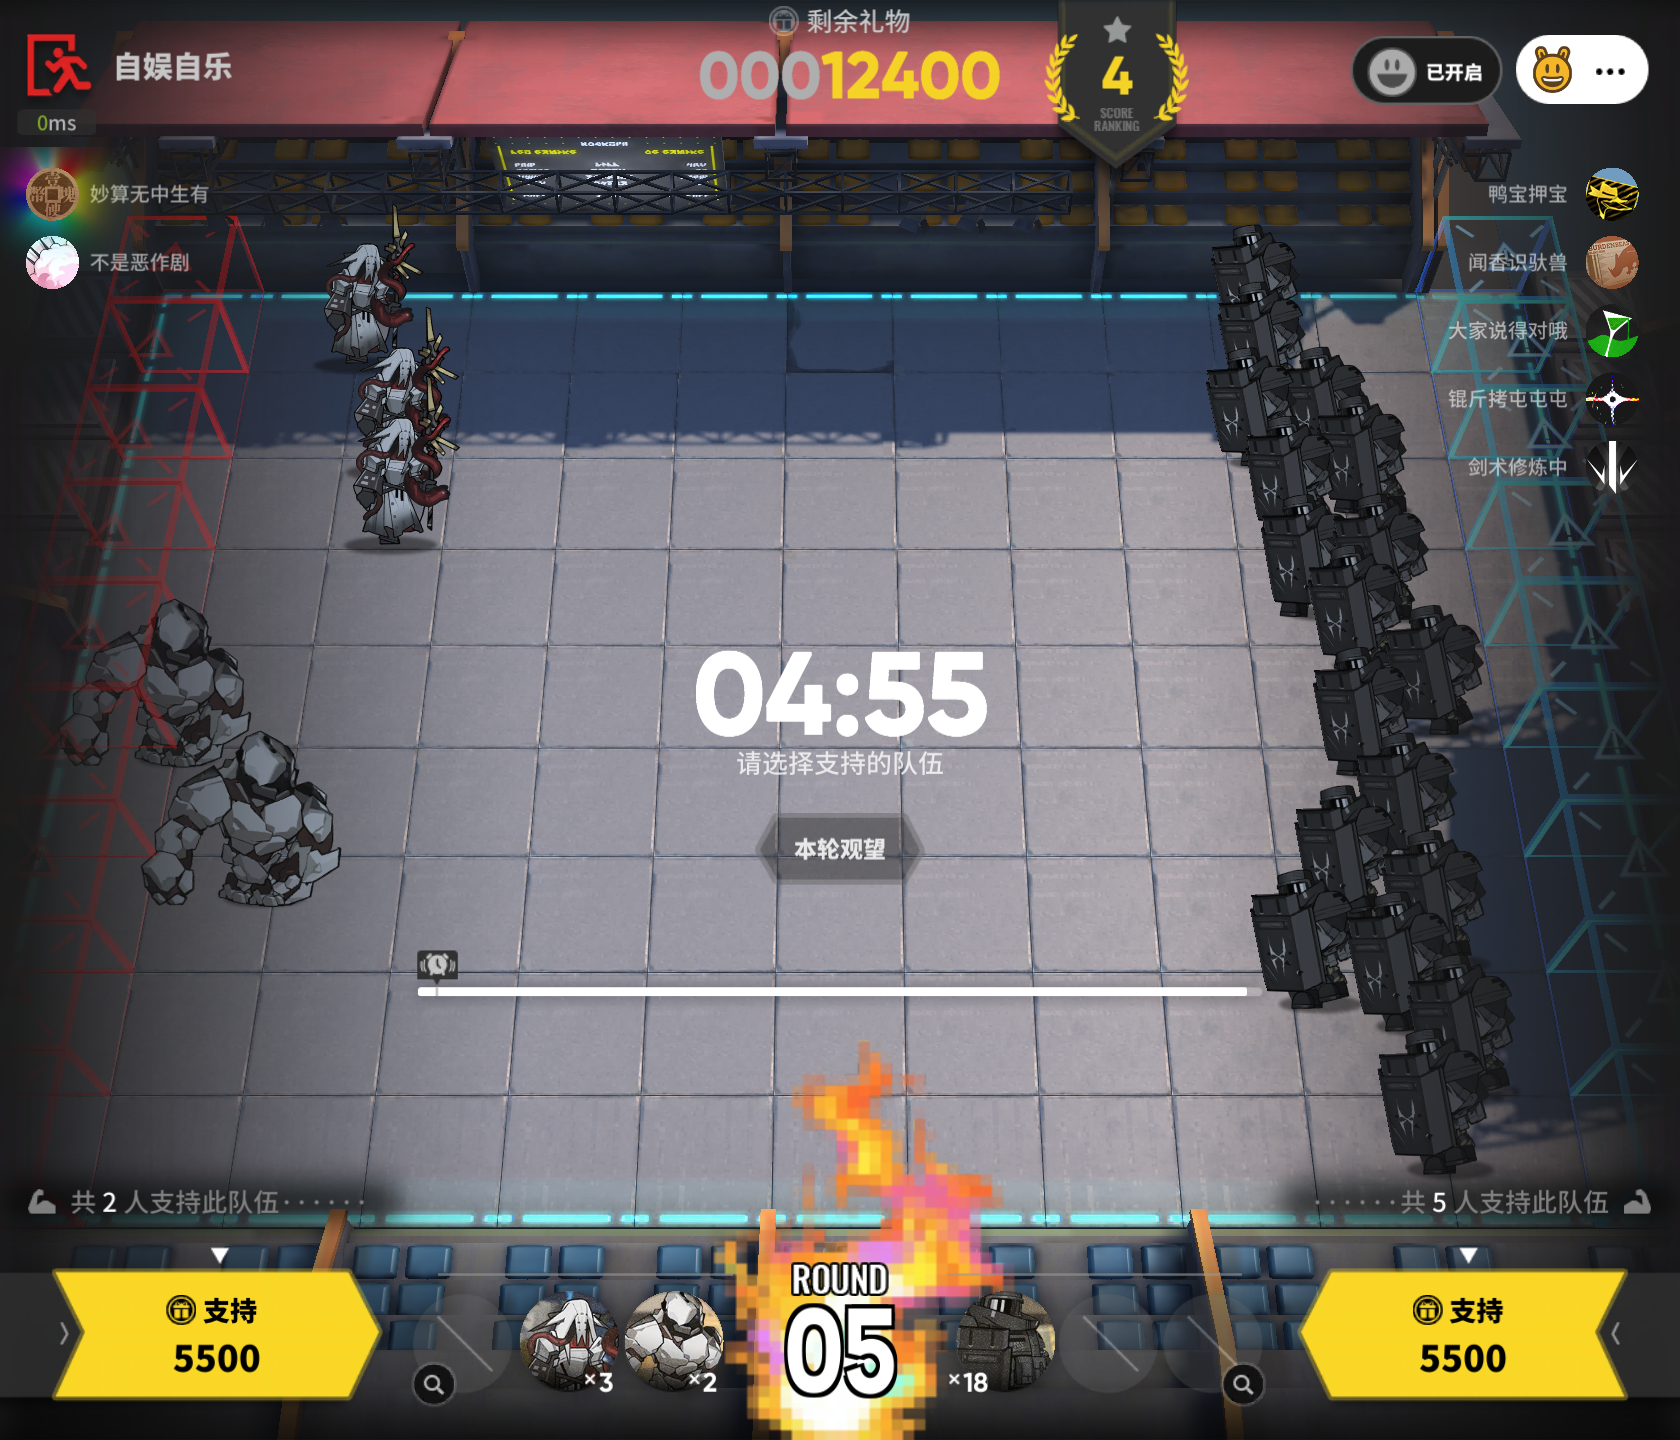砸人的石头: (146, 723, 350, 923), (66, 597, 256, 771), (619, 1286, 731, 1397)
迟钝的持盾者: (1334, 886, 1459, 1034), (1410, 956, 1526, 1096), (1373, 824, 1496, 951), (1376, 1040, 1487, 1174), (1373, 604, 1483, 734), (1249, 873, 1351, 1009), (951, 1283, 1063, 1399), (1306, 543, 1413, 656), (1291, 786, 1394, 903), (1311, 657, 1409, 773), (1197, 347, 1294, 460), (1259, 493, 1341, 617), (1354, 740, 1456, 840), (1317, 410, 1406, 504), (1241, 429, 1333, 519), (1341, 500, 1429, 586), (1209, 226, 1299, 307), (1296, 347, 1369, 437), (1216, 299, 1304, 370)
重生术师: (349, 289, 469, 446), (314, 211, 417, 376), (350, 404, 450, 549), (521, 1291, 621, 1401)
